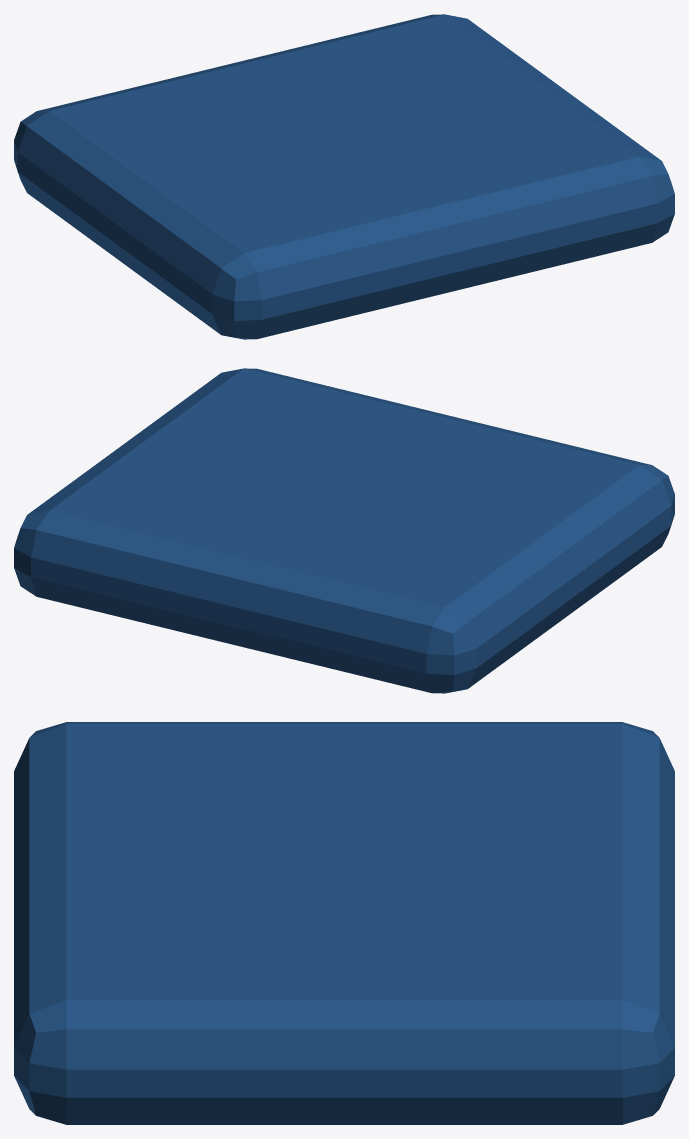
File: kit_roof_tile.glb
3 renders of one model, top to bottom at view 1: azimuth 30°, elevation 25°; view 2: azimuth 150°, elevation 25°; view 3: azimuth 270°, elevation 25°, orthographic. The views are drawn at different scales.
Parts seen in each view (by area): view 1: Soft edged blue roof tile; view 2: Soft edged blue roof tile; view 3: Soft edged blue roof tile.
Boxes of the visible parts, x1,y1,x2,y2 form: Soft edged blue roof tile: (14, 14, 674, 339); Soft edged blue roof tile: (14, 368, 674, 693); Soft edged blue roof tile: (14, 722, 674, 1124).
Size of the model in its own units: 0.39 by 0.07 by 0.34.
